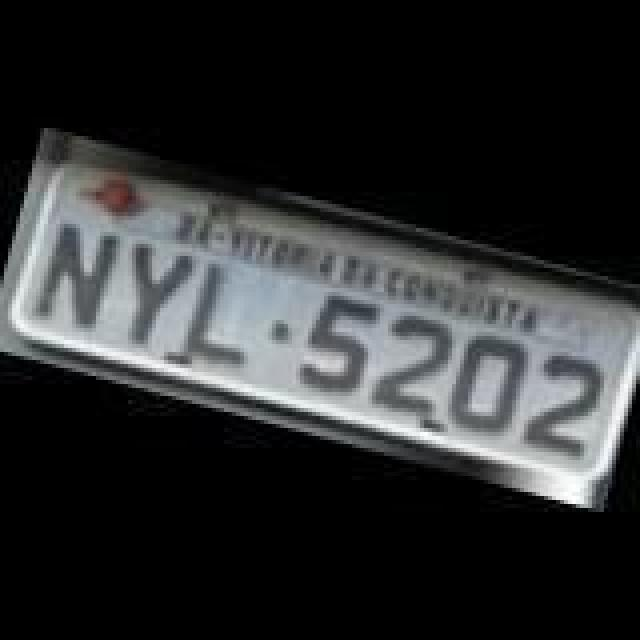2: (358, 308, 458, 420), (518, 348, 610, 468)
5: (290, 286, 382, 402)
L: (180, 254, 268, 370)
N: (30, 220, 122, 340)
O: (436, 324, 532, 444)
Y: (106, 236, 198, 356)
